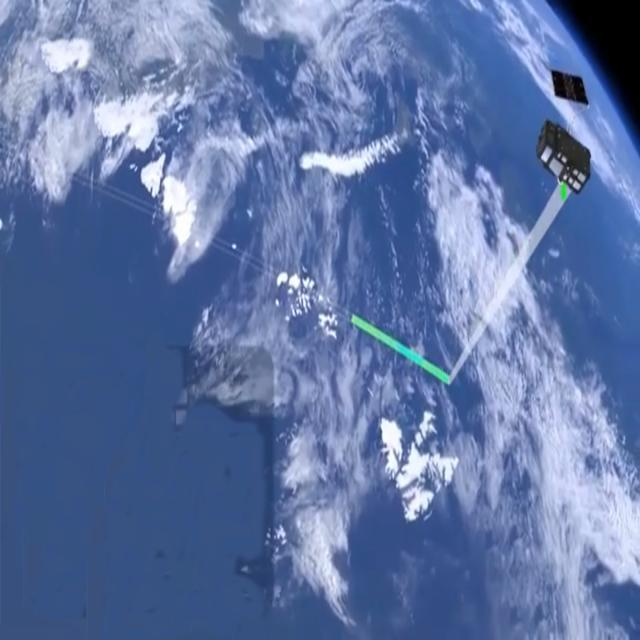sat: (532, 119, 594, 205), (550, 66, 592, 106)
